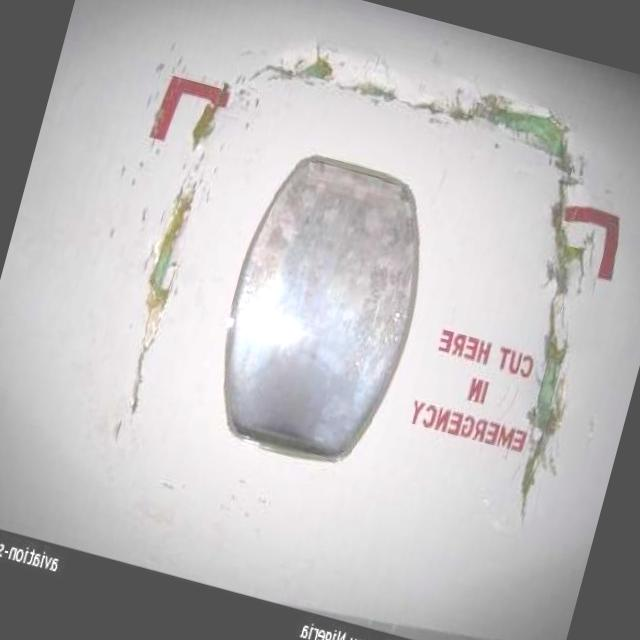crack: (467, 174, 633, 537), (226, 38, 585, 170), (109, 109, 228, 424)
